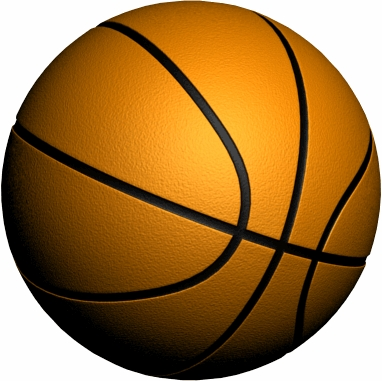basketball: (3, 2, 381, 376)
